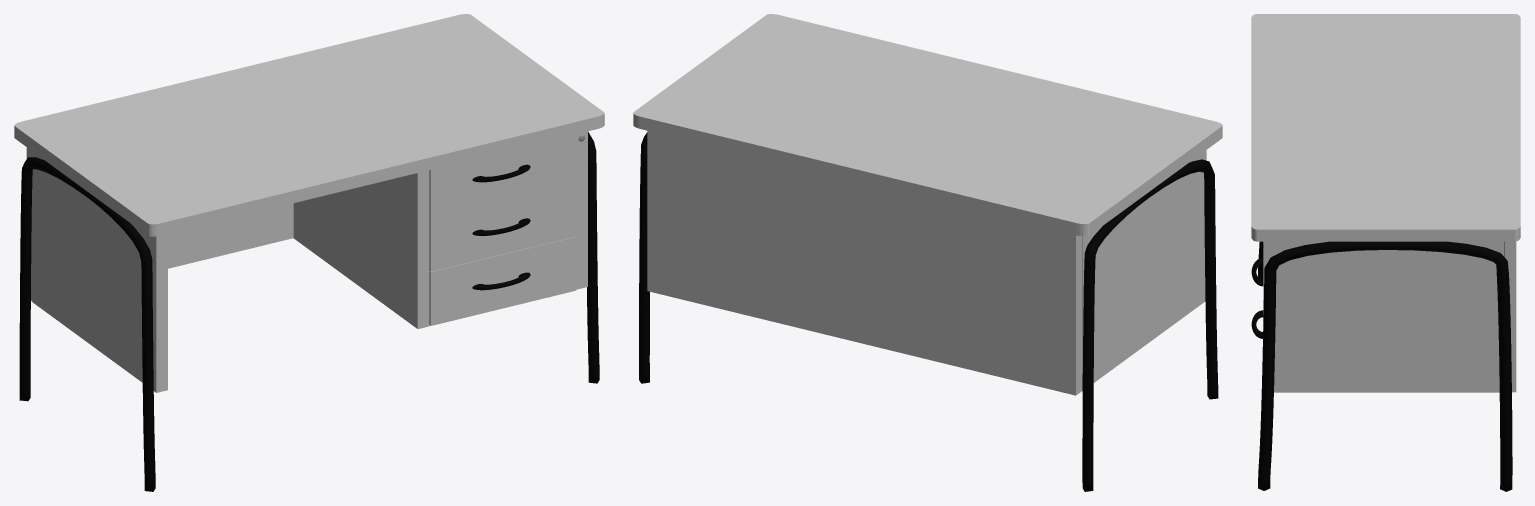
The model's file is Teachers Desk.fbx.
3 views of the same model, side by side, from view 1: azimuth 30°, elevation 25°; view 2: azimuth 150°, elevation 25°; view 3: azimuth 270°, elevation 25° (orthographic). The views are drawn at different scales.
Visible parts, largest first — view 1: Desk Top, Desk - Left Wall, Desk - Middle Wall, Drawer - Bottom, Drawer - Middle, Drawer - Top, BezierCurve, Desk - Back, BezierCurve.001, Desk - Right Wall; view 2: Desk - Back, Desk Top, Desk - Left Wall, BezierCurve, BezierCurve.001; view 3: Desk Top, Desk - Right Wall, BezierCurve.001, Desk - Back.
Part boxes in pixels (left/top/right/bottom): Desk Top: left=14, top=14, right=604, bottom=236; Desk - Left Wall: left=32, top=151, right=167, bottom=392; Desk - Middle Wall: left=293, top=170, right=429, bottom=328; Drawer - Bottom: left=429, top=236, right=576, bottom=325; Drawer - Middle: left=429, top=182, right=576, bottom=271; Drawer - Top: left=429, top=134, right=576, bottom=217; BezierCurve: left=19, top=157, right=155, bottom=491; Desk - Back: left=26, top=147, right=293, bottom=301; BezierCurve.001: left=587, top=131, right=599, bottom=383; Desk - Right Wall: left=576, top=131, right=587, bottom=289; Desk - Back: left=647, top=130, right=1081, bottom=395; Desk Top: left=633, top=14, right=1222, bottom=236; Desk - Left Wall: left=1082, top=150, right=1206, bottom=391; BezierCurve: left=1082, top=159, right=1218, bottom=491; BezierCurve.001: left=639, top=132, right=649, bottom=383; Desk Top: left=1251, top=14, right=1520, bottom=241; Desk - Right Wall: left=1264, top=241, right=1504, bottom=392; BezierCurve.001: left=1258, top=241, right=1512, bottom=491; Desk - Back: left=1505, top=241, right=1516, bottom=392.
Size of the model in its own units: 91.7 by 52.11 by 48.4.
